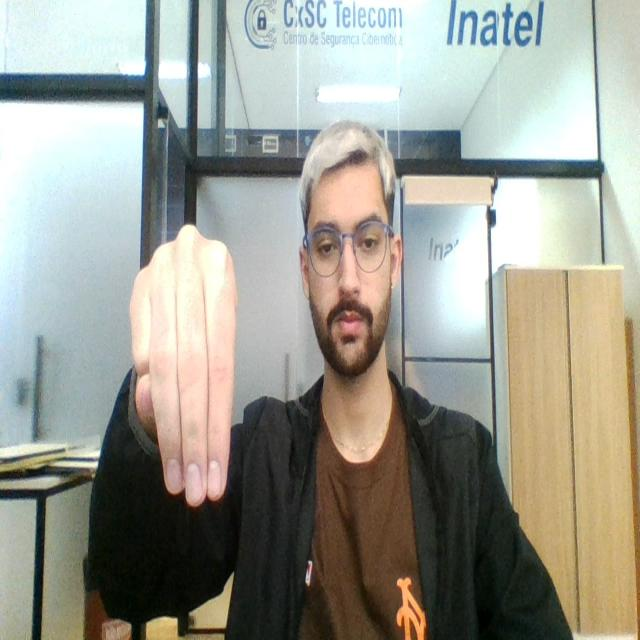M: (123, 212, 241, 518)
